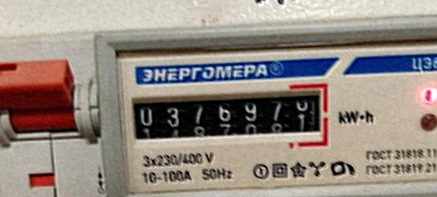0: (137, 104, 153, 126)
1: (295, 111, 307, 132)
3: (165, 106, 181, 128)
6: (216, 98, 232, 122)
7: (190, 101, 207, 126), (268, 98, 285, 122)
9: (242, 99, 257, 121)
screen: (122, 72, 335, 161)
